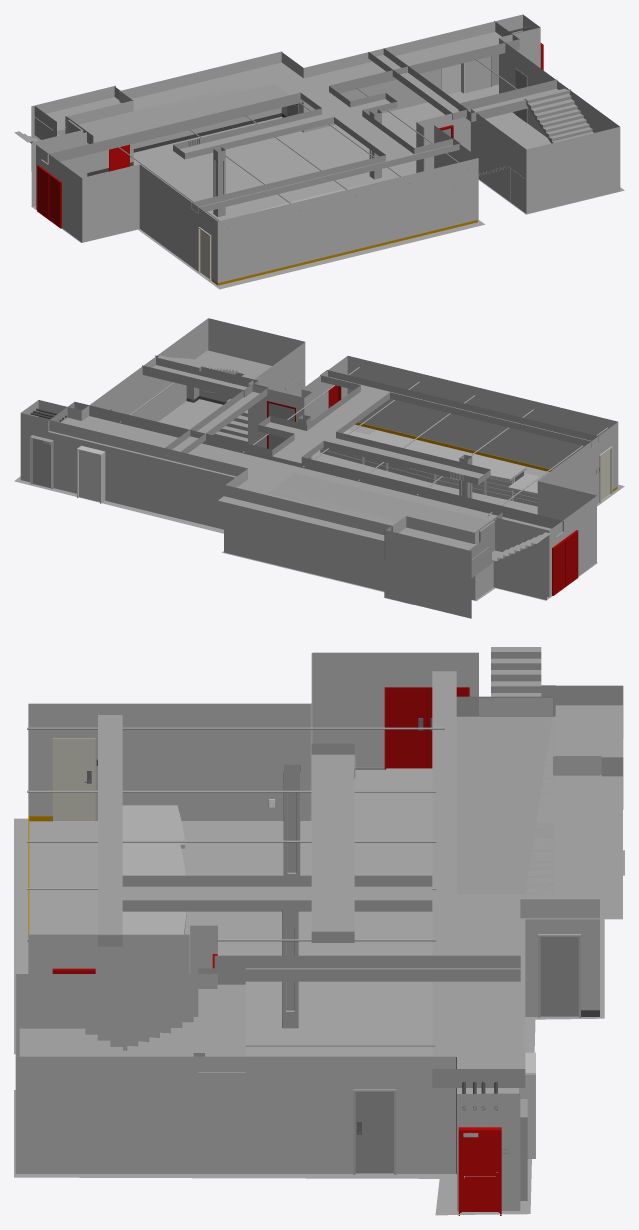
Rendered from basement_floor.fbx.
3 views of the same model, one above another, from view 1: azimuth 30°, elevation 25°; view 2: azimuth 150°, elevation 25°; view 3: azimuth 270°, elevation 25° (orthographic). The views are drawn at different scales.
Parts seen in each view (by area): view 1: Walls, Ceiling_Extrude, Floor, polySurface1064, polySurface1767, Door_Double1, Columns, Stairs_Down, Pipes, polySurface1760, polySurface1225, polySurface1753 (+2 smaller); view 2: Walls, Ceiling_Extrude, Floor, Bar_Top, Bar_Front, polySurface1753, Stairs_Down, Door_Double1, polySurface1064, polySurface1773, polySurface918, Pipes (+5 smaller); view 3: Walls, Ceiling_Extrude, Floor, polySurface1767, Bar_Top, Stairs_Down, Pipes, Door_Double1, polySurface1153, Columns, polySurface48, polySurface30 (+5 smaller).
Part boxes in pixels (x1,y1,x2,y2): Walls: [31, 14, 620, 282]; Ceiling_Extrude: [34, 21, 570, 213]; Floor: [31, 84, 624, 268]; polySurface1064: [479, 88, 593, 175]; polySurface1767: [192, 219, 484, 289]; Door_Double1: [37, 165, 61, 228]; Columns: [213, 109, 381, 217]; Stairs_Down: [14, 87, 121, 143]; Pipes: [116, 58, 527, 228]; polySurface1760: [211, 220, 477, 285]; polySurface1225: [87, 113, 286, 176]; polySurface1753: [441, 63, 464, 94]; Walls: [20, 318, 618, 618]; Ceiling_Extrude: [48, 355, 598, 559]; Floor: [14, 399, 597, 604]; Bar_Top: [343, 430, 541, 495]; Bar_Front: [321, 447, 537, 506]; polySurface1753: [77, 445, 105, 503]; Stairs_Down: [384, 520, 550, 577]; Door_Double1: [552, 530, 578, 595]; polySurface1064: [157, 355, 288, 443]; polySurface1773: [30, 435, 53, 489]; polySurface918: [195, 350, 303, 402]; Pipes: [119, 367, 607, 515]; Walls: [15, 652, 601, 1211]; Ceiling_Extrude: [98, 671, 622, 1087]; Floor: [14, 769, 624, 1215]; polySurface1767: [14, 818, 97, 1054]; Bar_Top: [122, 805, 186, 934]; Stairs_Down: [491, 647, 623, 874]; Pipes: [27, 727, 444, 1046]; Door_Double1: [384, 687, 469, 769]; polySurface1153: [458, 1127, 501, 1215]; Columns: [282, 764, 300, 1028]; polySurface48: [54, 740, 93, 820]; polySurface30: [355, 1092, 393, 1173].
Bounding box in the file's own units: 2485 × 310 × 1427.
